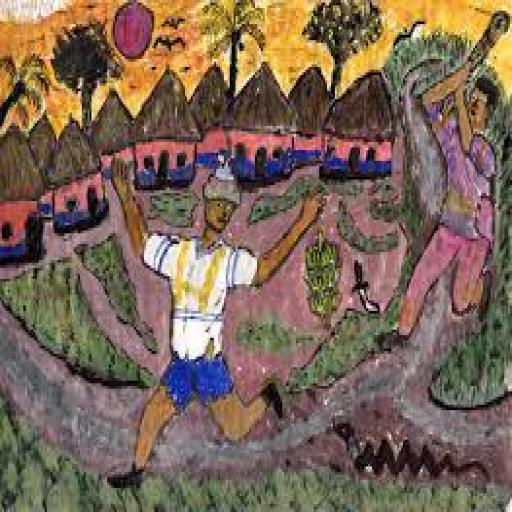person: (103, 149, 329, 492), (383, 5, 512, 348)
